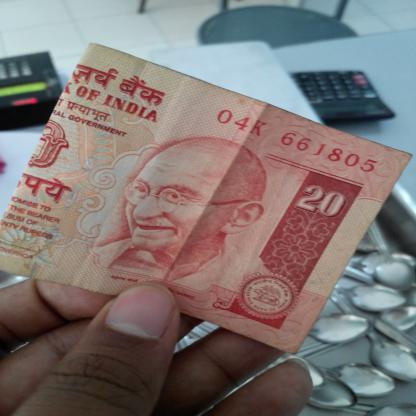Old20Front: (4, 46, 380, 323)
